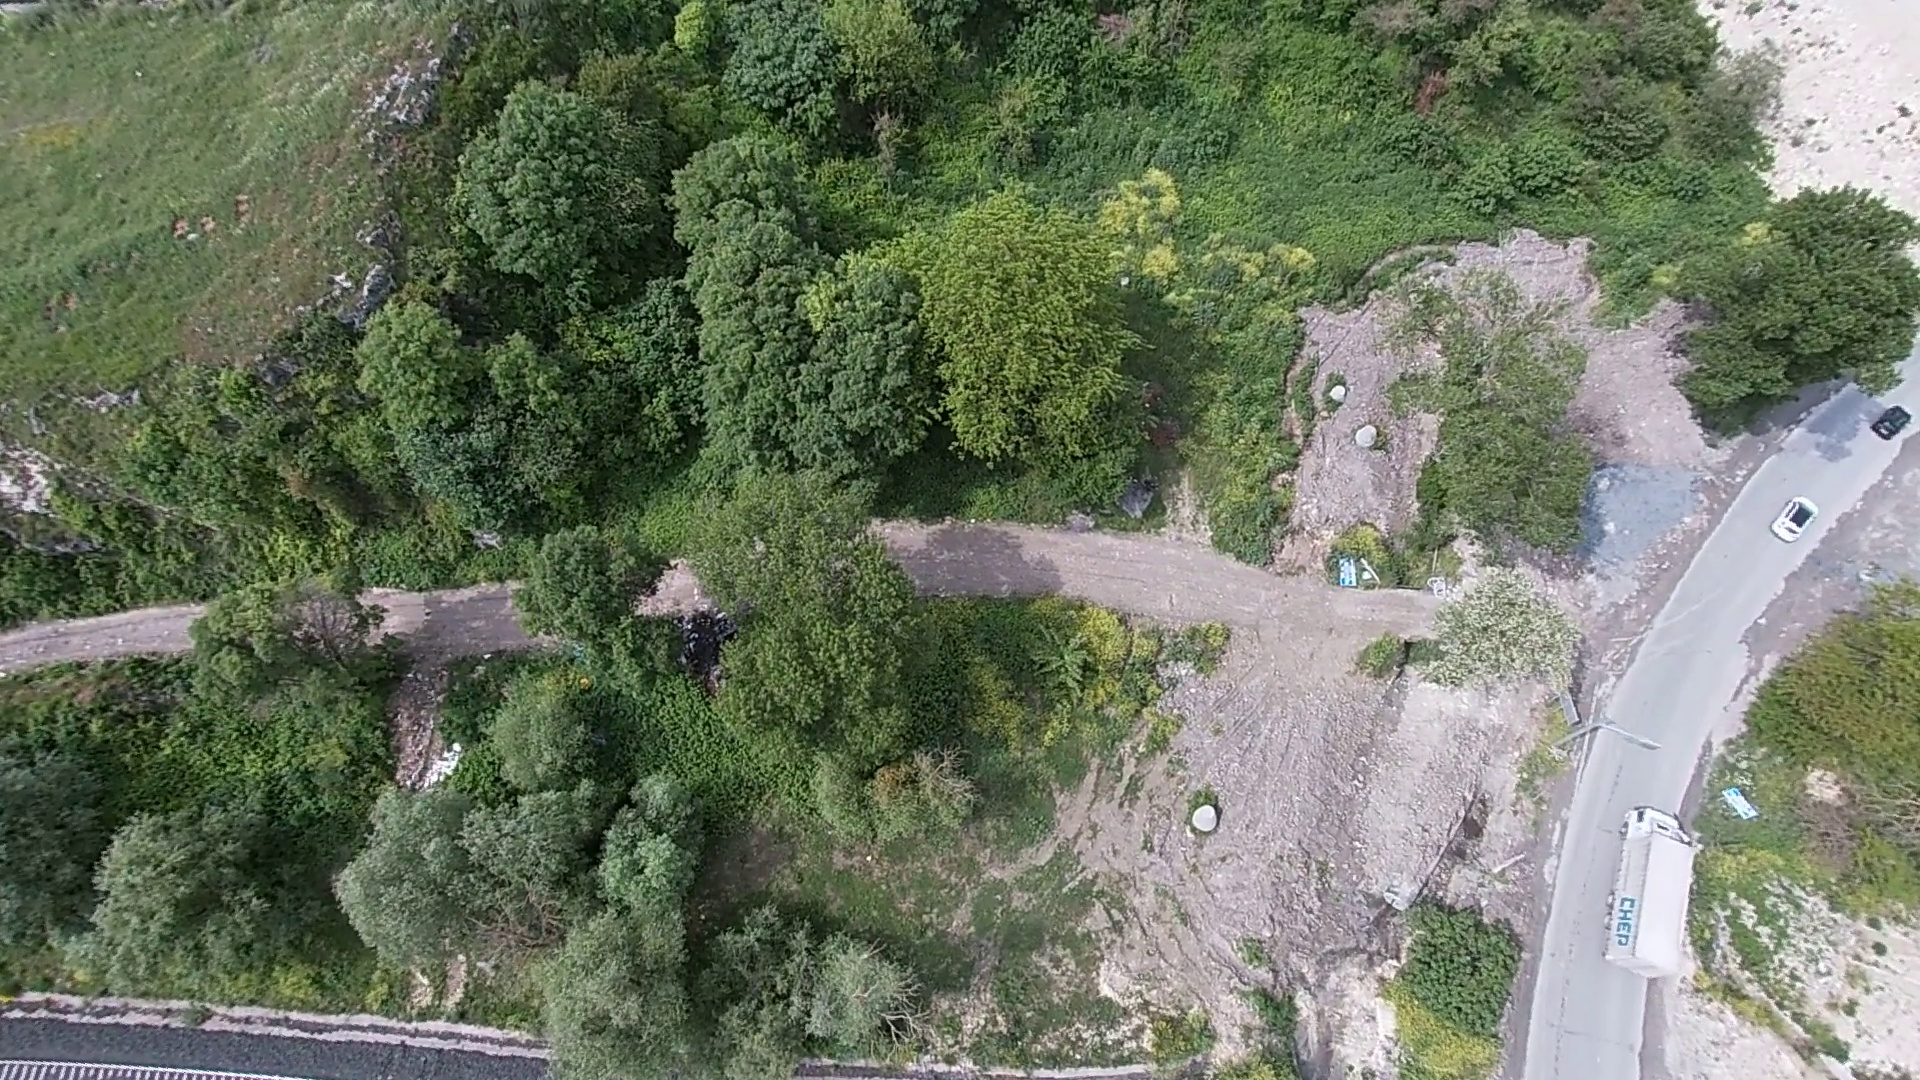arac: (1604, 800, 1701, 986), (1767, 493, 1821, 545), (1865, 402, 1913, 440)
